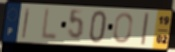0: (88, 9, 108, 44)
5: (68, 8, 86, 43)
I: (20, 7, 31, 40), (140, 12, 150, 47)
L: (39, 7, 59, 42)
O: (112, 12, 134, 45)
